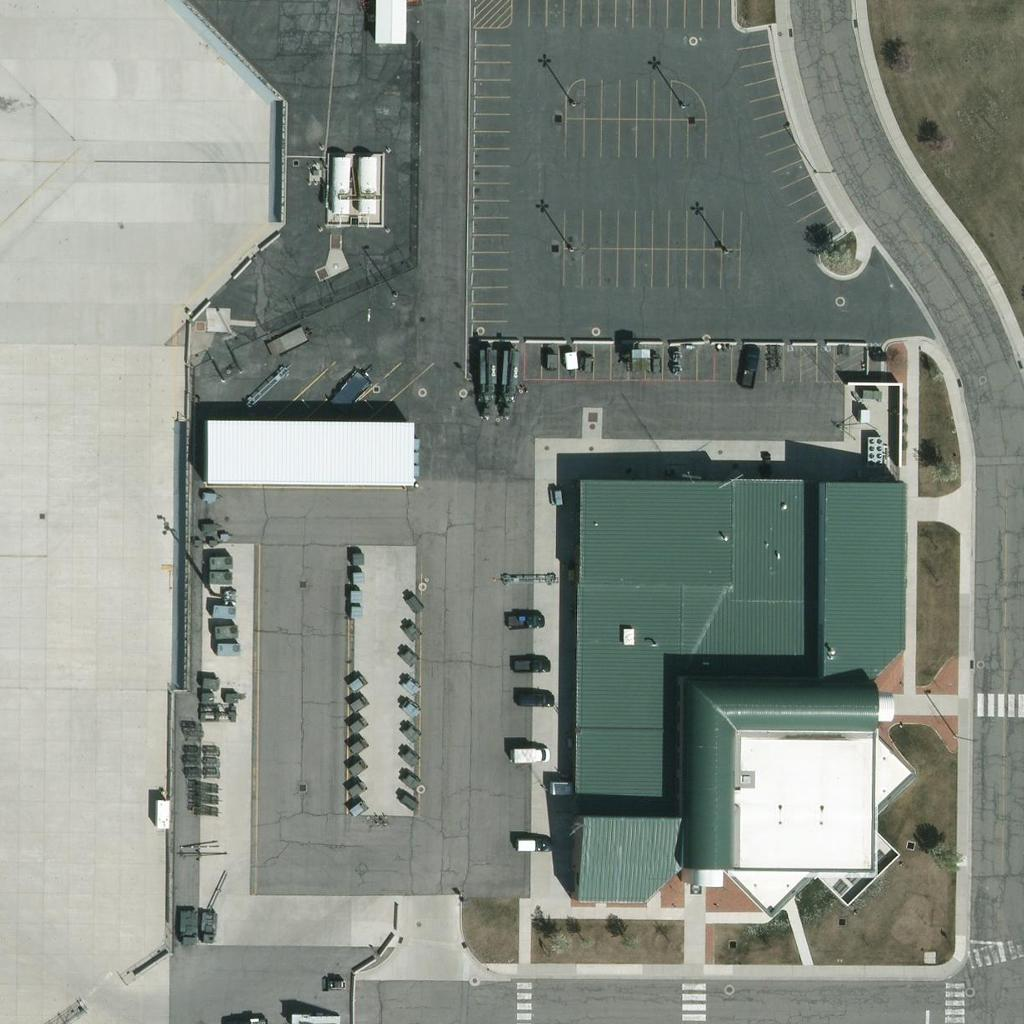car: (734, 344, 768, 378), (512, 602, 546, 636), (519, 645, 553, 679), (524, 681, 558, 715)
